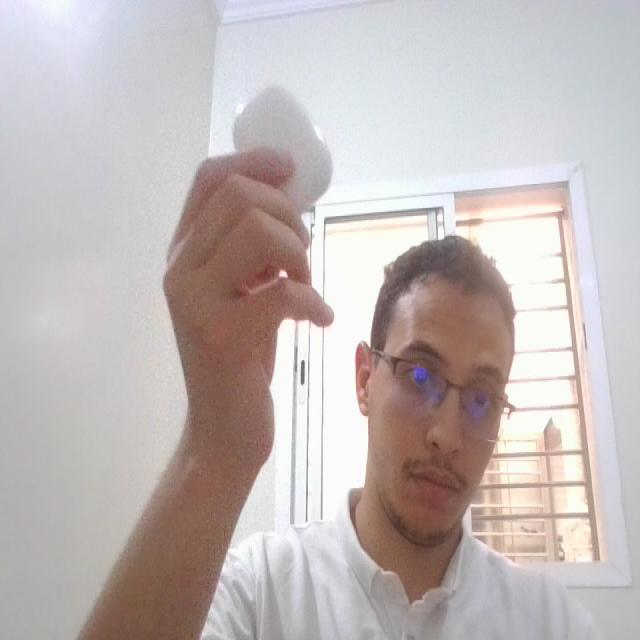airpods: (226, 84, 342, 221)
